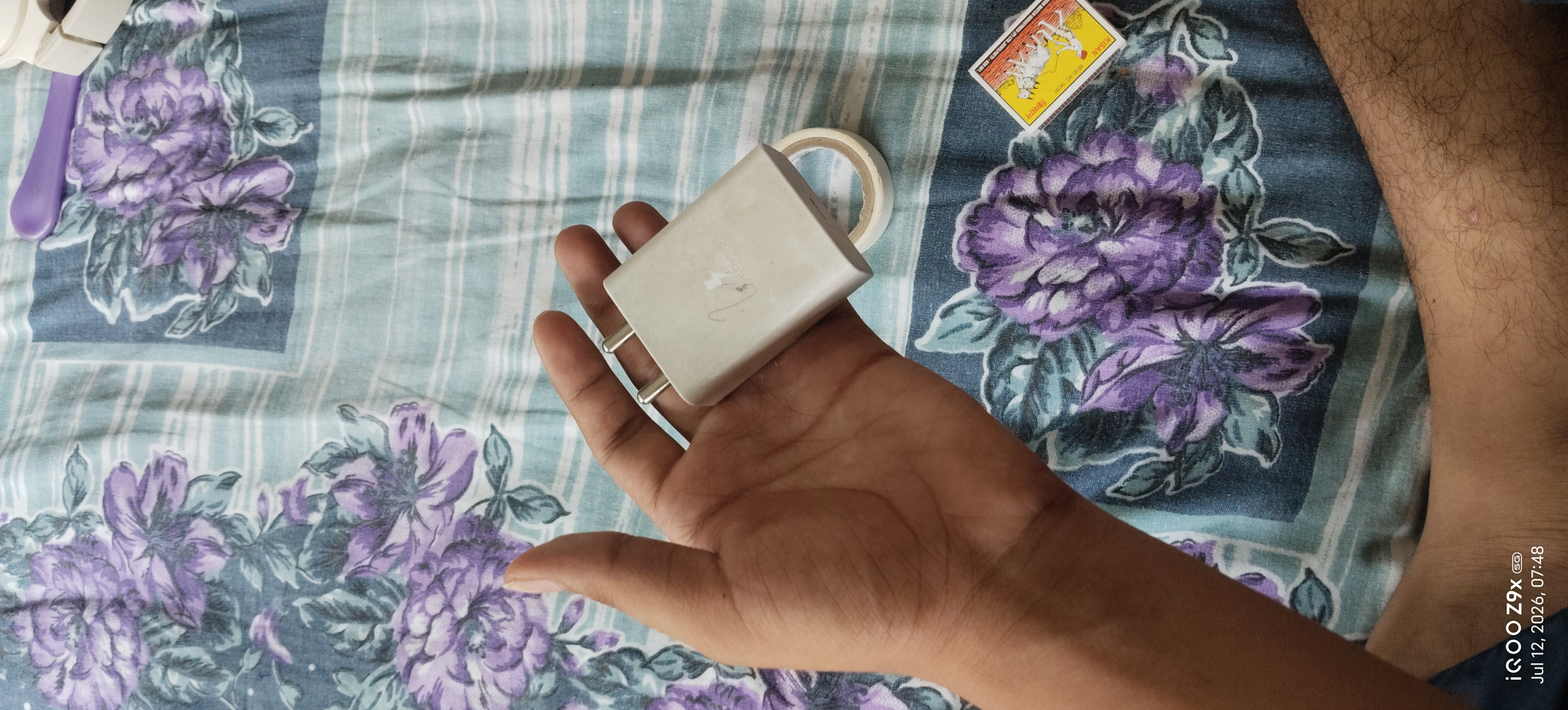charger: (542, 130, 886, 426)
matchbox: (957, 0, 1139, 163)
tape_roll: (760, 73, 895, 253)
